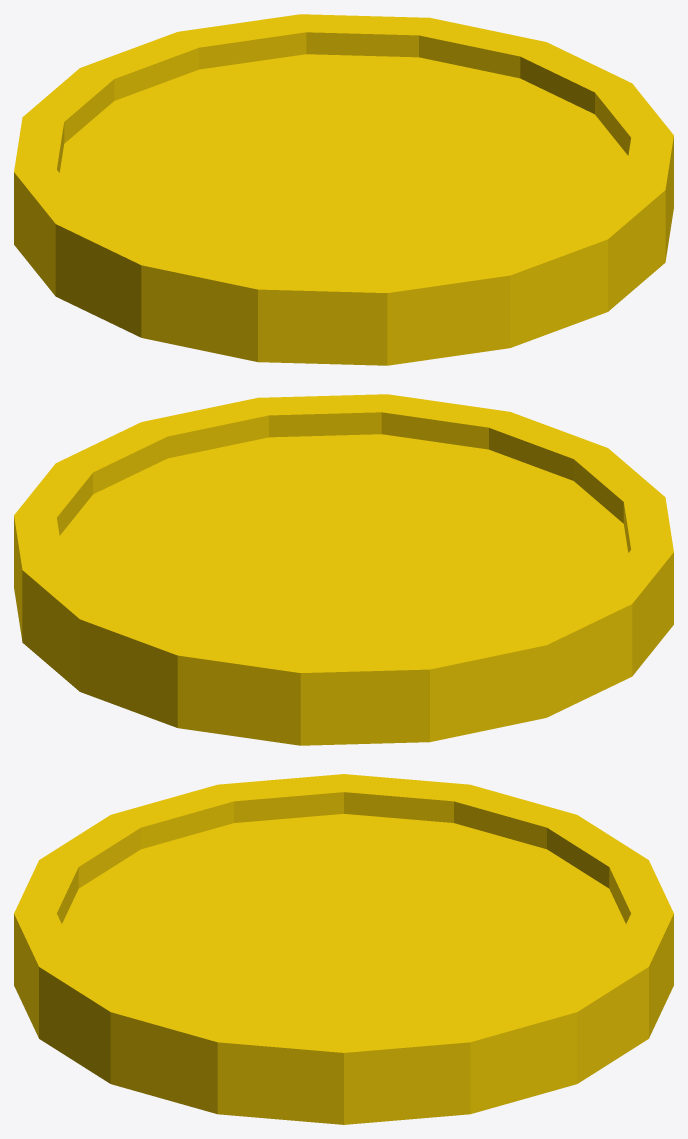
Rendered from Coin.fbx.
3 views of the same model, one above another, from view 1: azimuth 30°, elevation 25°; view 2: azimuth 150°, elevation 25°; view 3: azimuth 270°, elevation 25° (orthographic).
Parts seen in each view (by area): view 1: Cylinder; view 2: Cylinder; view 3: Cylinder.
Boxes of the visible parts, x1,y1,x2,y2 form: Cylinder: [14, 14, 673, 365]; Cylinder: [14, 394, 673, 745]; Cylinder: [14, 774, 673, 1124].
Size of the model in its own units: 157 by 18.93 by 157.
